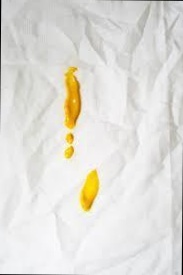mustard: (57, 63, 87, 131), (82, 166, 102, 209), (64, 144, 76, 159), (67, 133, 75, 141)
